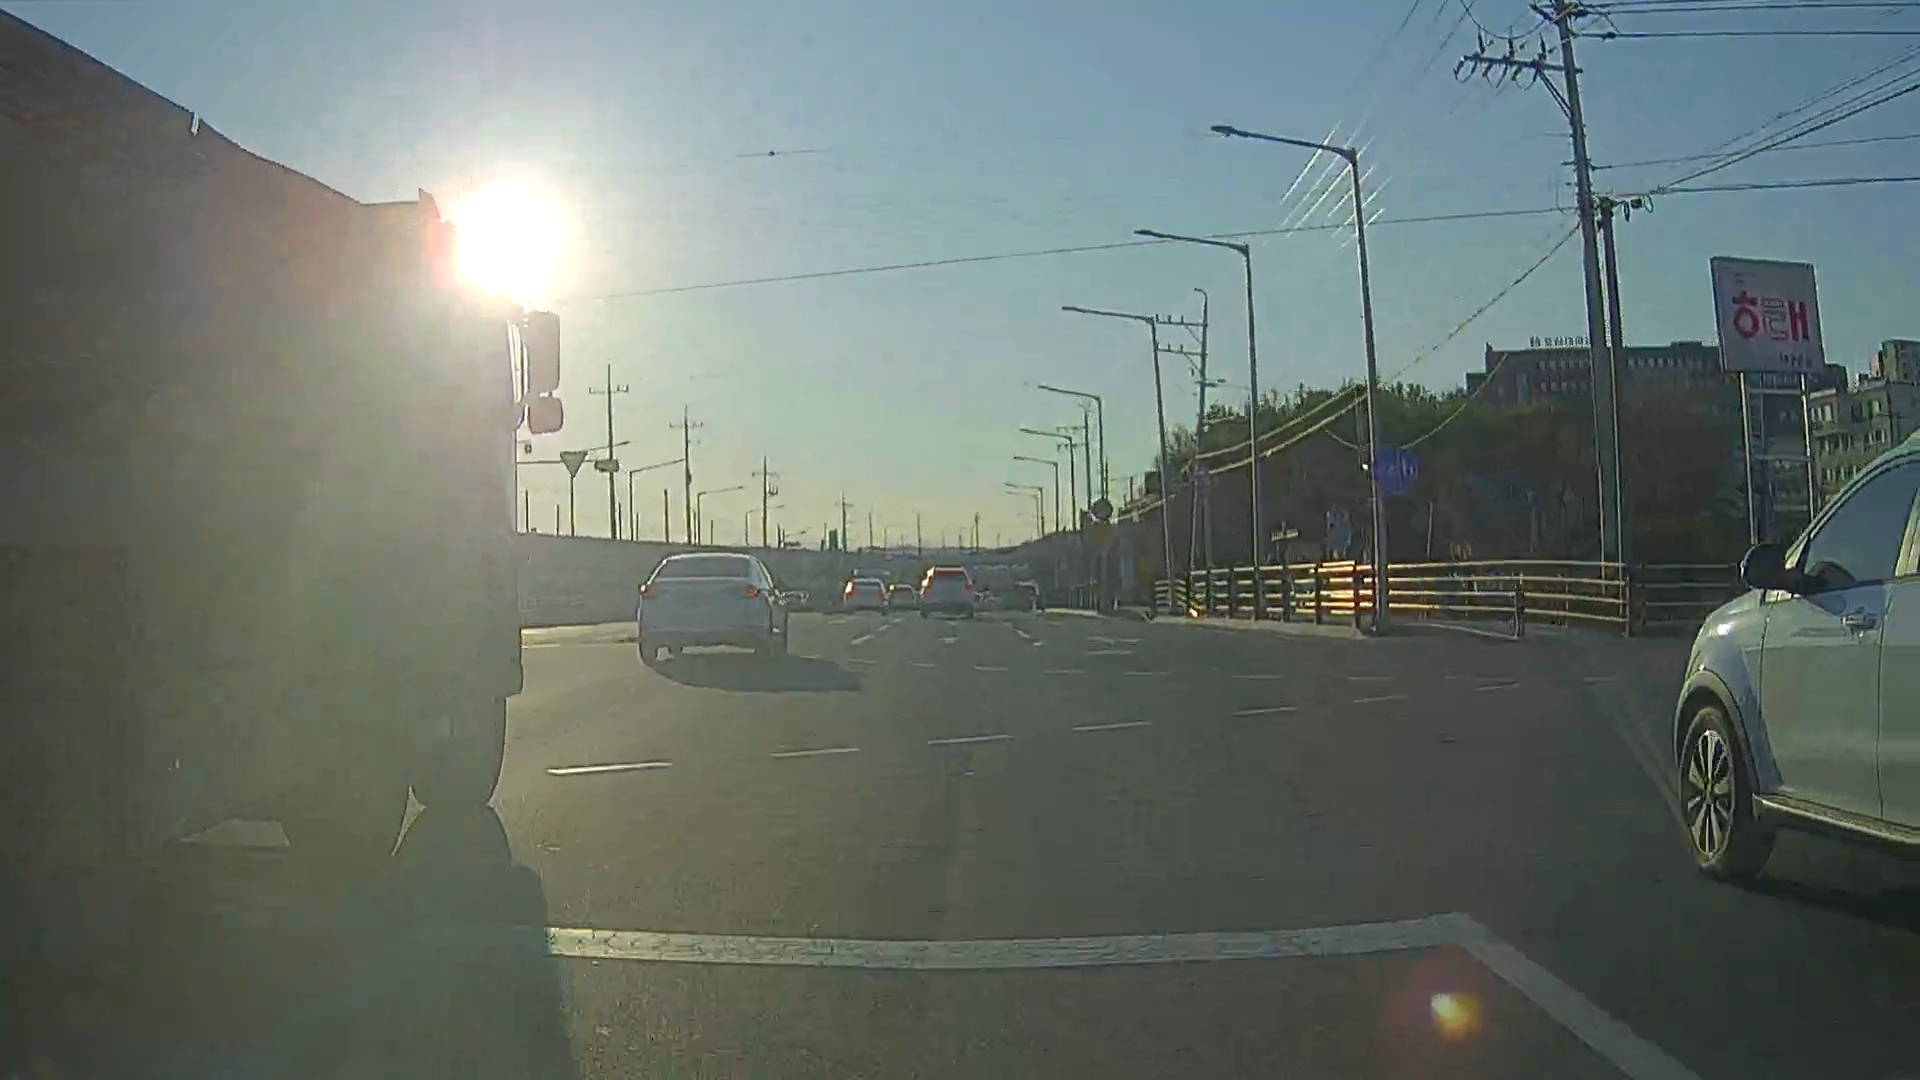trafficSignCircle: (1093, 496, 1112, 516)
trafficSignTri: (558, 448, 587, 477)
